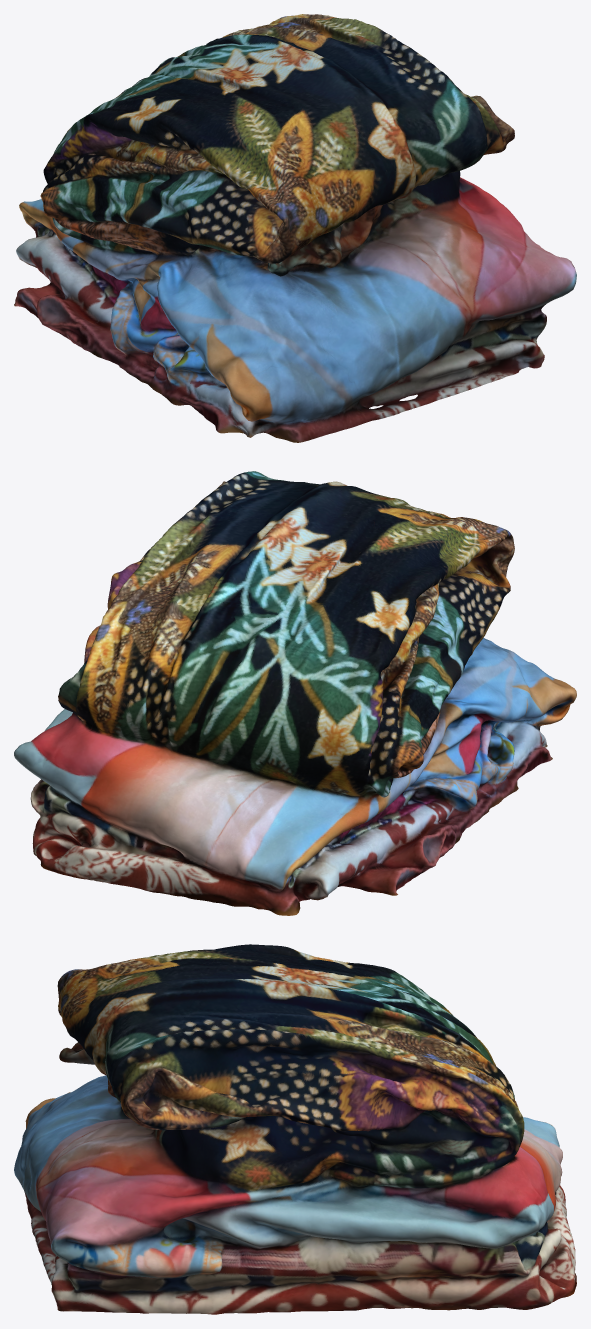
Rendered from Stack of Folded Shirts.fbx.
The picture shows the model from 3 angles, top to bottom: view 1: azimuth 30°, elevation 25°; view 2: azimuth 150°, elevation 25°; view 3: azimuth 270°, elevation 25°; orthographic projection. The views are drawn at different scales.
Visible parts, largest first — view 1: Fabric_scan; view 2: Fabric_scan; view 3: Fabric_scan.
Part boxes in pixels (bbox=[...]): Fabric_scan: bbox=[14, 14, 576, 442]; Fabric_scan: bbox=[14, 471, 576, 915]; Fabric_scan: bbox=[14, 944, 576, 1314].
Size of the model in its own units: 25.48 by 17.4 by 32.98.
1 material, 1 textured.
